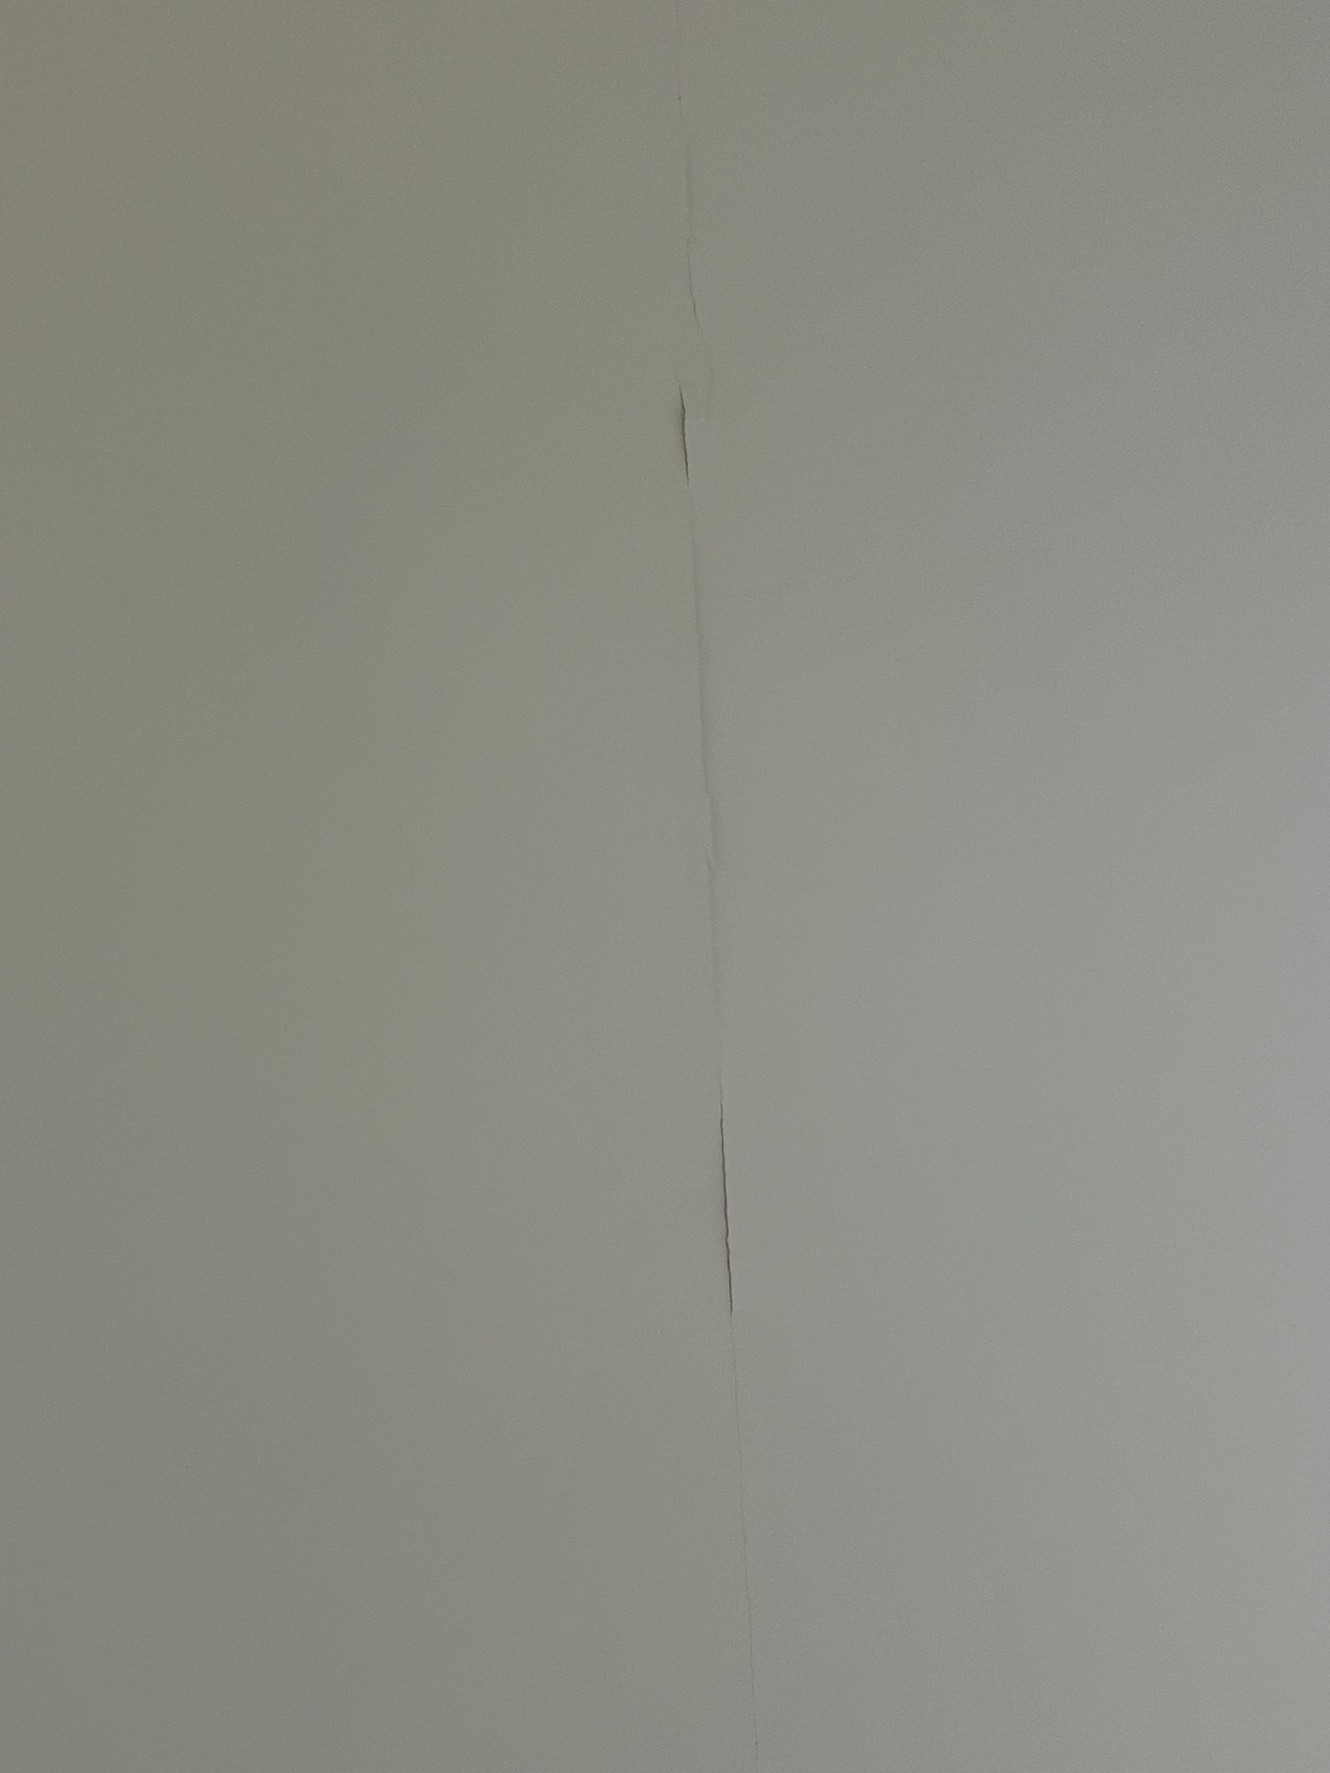Low: (613, 17, 914, 1770)
